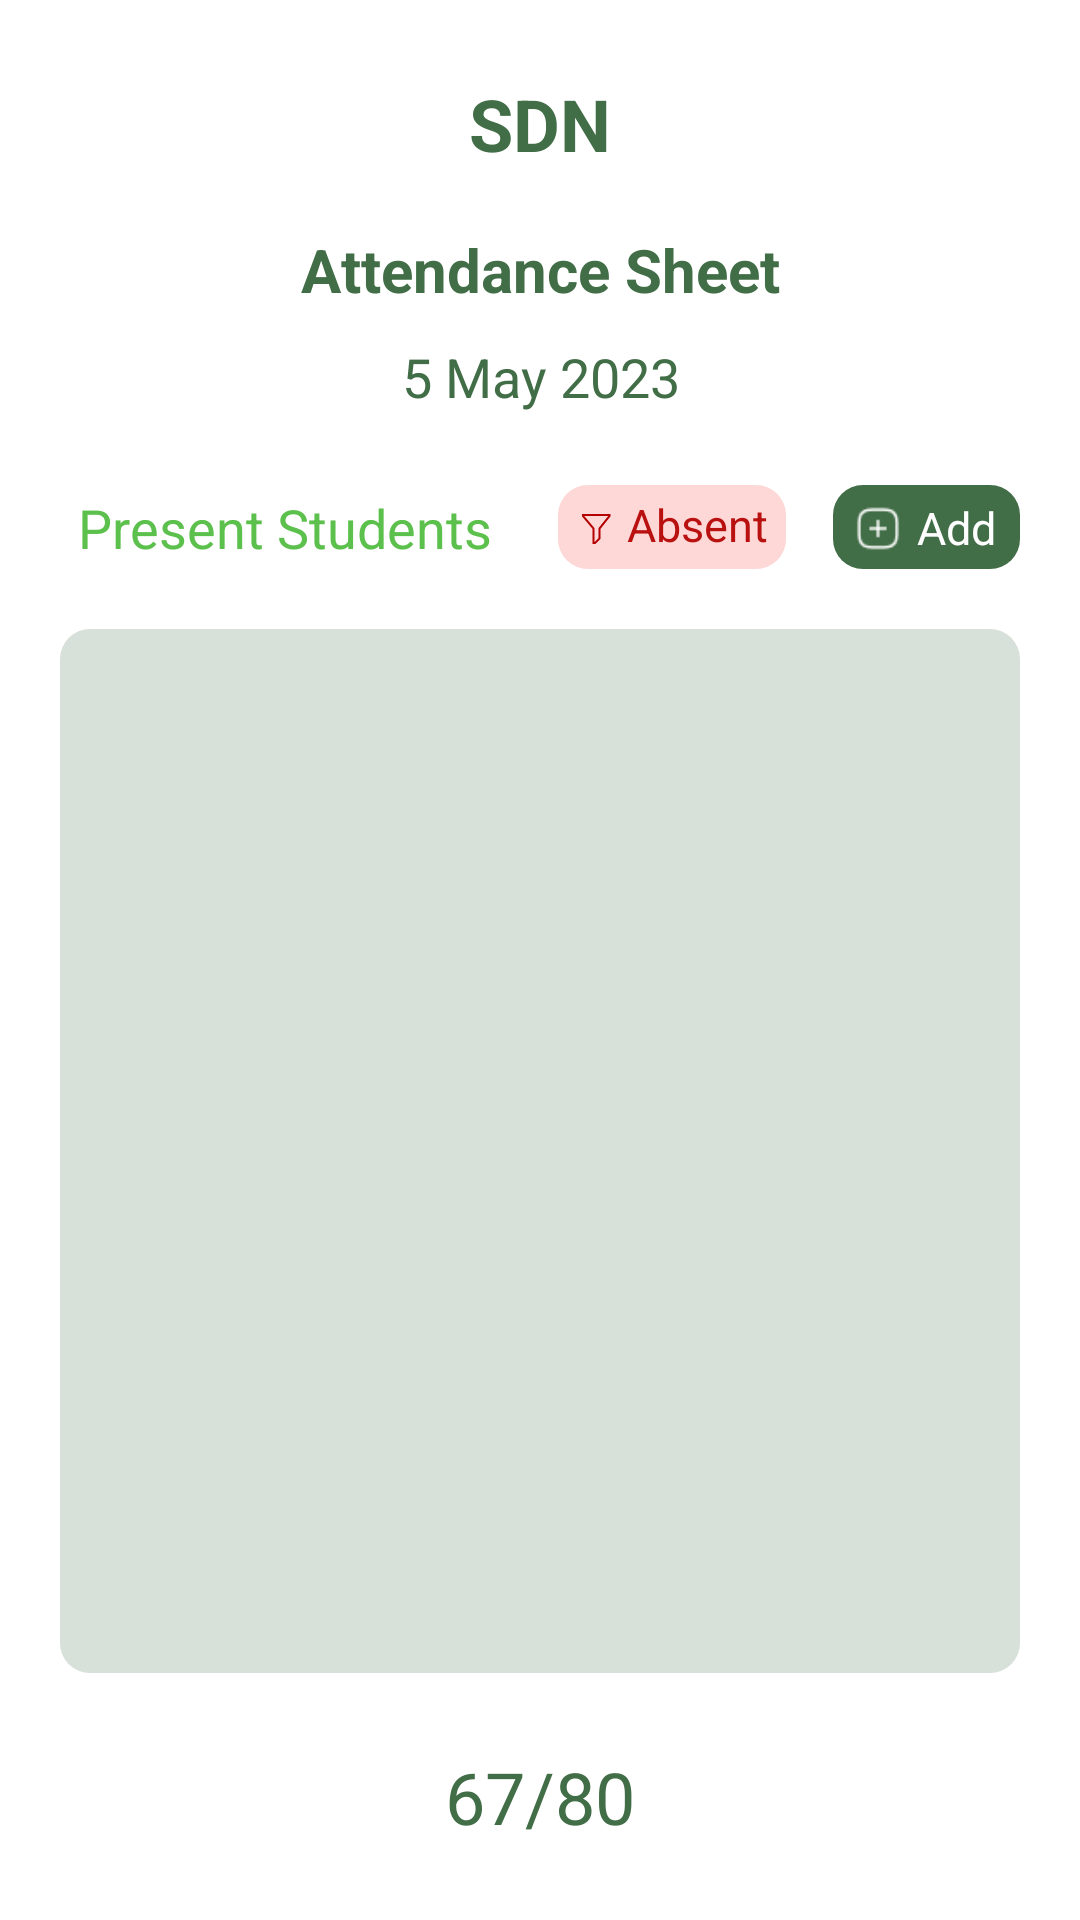

Icons on this 1080 x 1920 Android screen, each with the point to tap as (x,y):
addsquare: (878,528)
